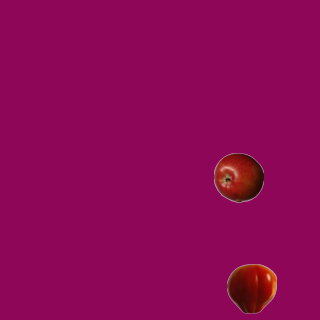Apple Braeburn: (213, 152, 263, 202)
Tomato 1: (226, 263, 276, 313)
